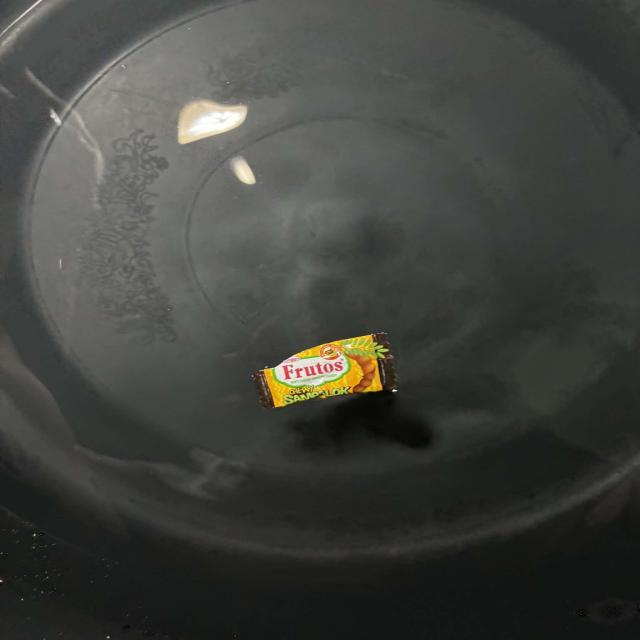Plastic Wrapper: (242, 326, 400, 420)
